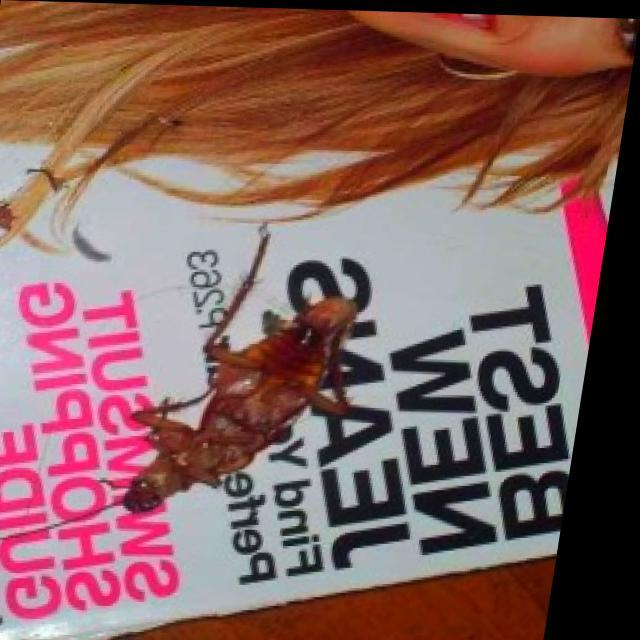cockroach: (113, 258, 379, 531)
